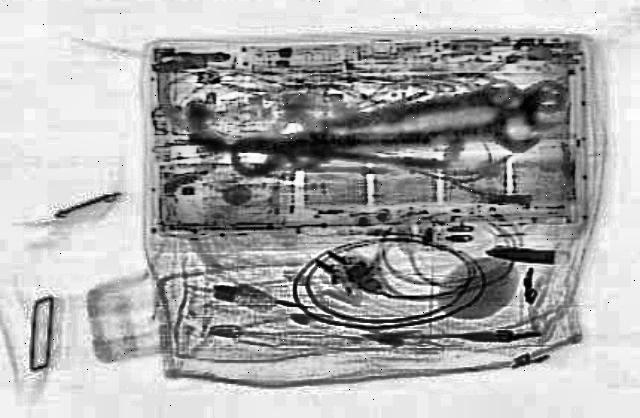Wrench: (227, 110, 549, 188)
